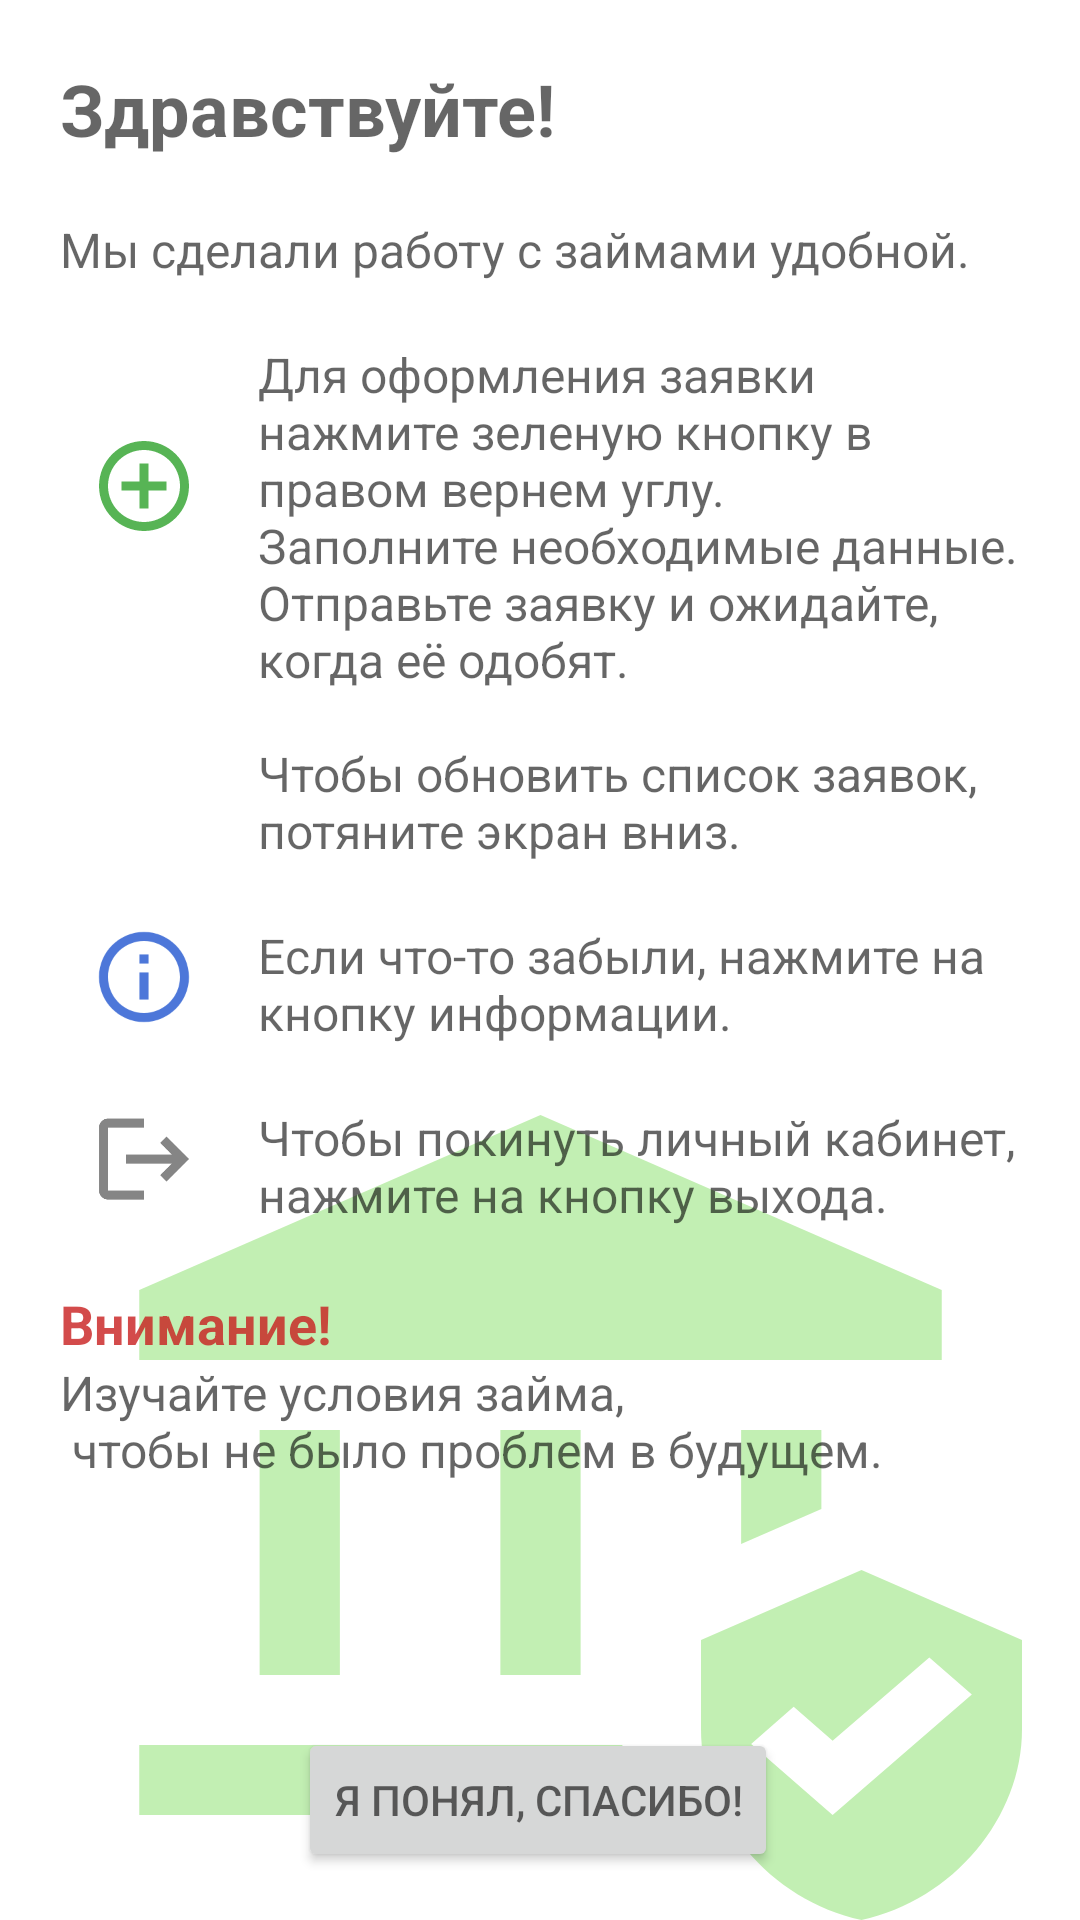

Screen size 1080px×1920px. Icon name, then its box in pixels as (x1, y1, x2, y2):
add circle: (99, 441, 189, 531)
info: (99, 932, 189, 1022)
